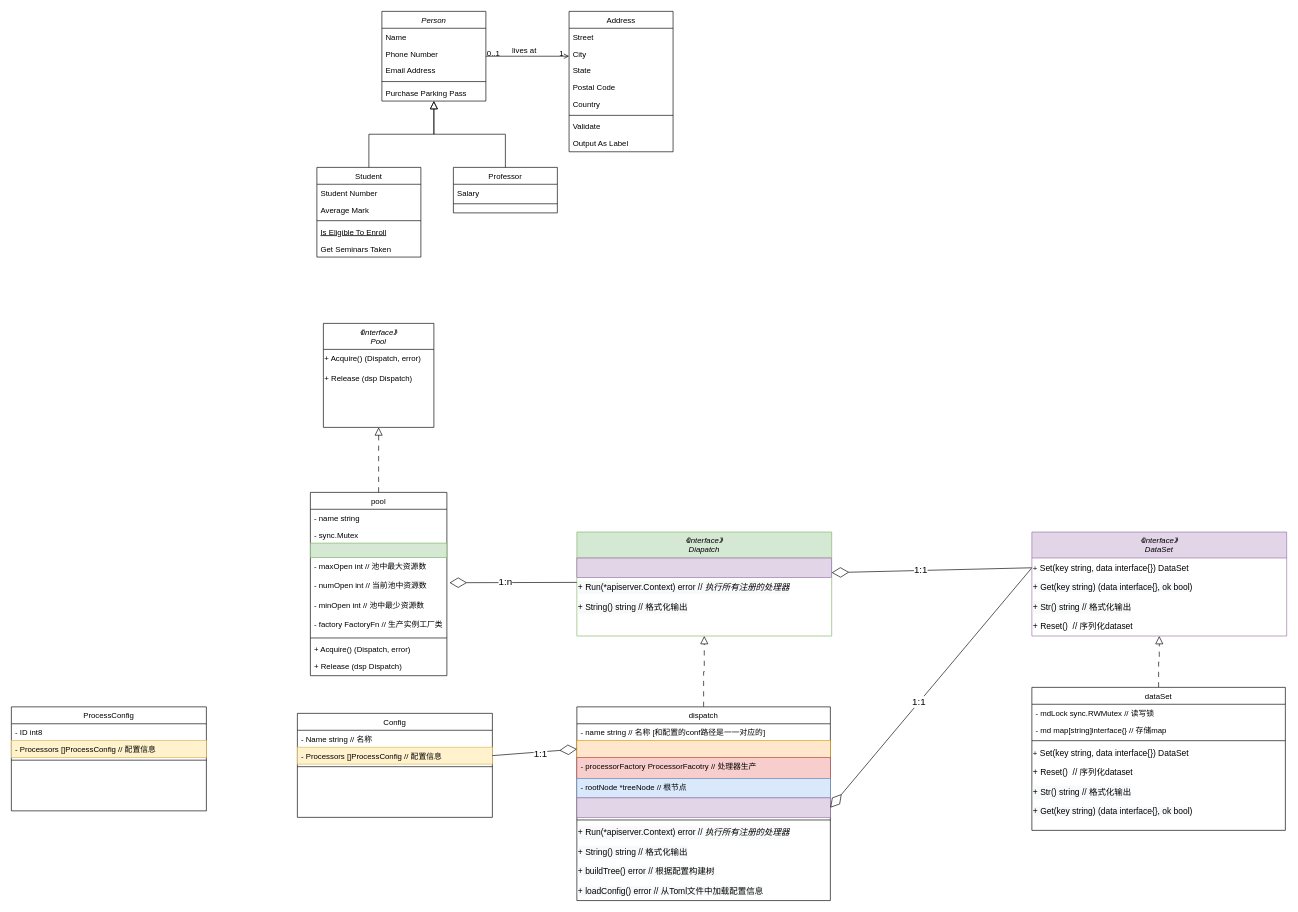
The diagram is 1298 pixels wide and 912 high, and some of its shapes have lost their labels. Here are the shapes that lost their labels. From the top down, the centre of each, then its label:
(x=378, y=549): - pool chan Dispatch
(x=704, y=567): + DatasSet // 提供数据集合的读写
(x=703, y=749): - config *Config // 配置信息
(x=703, y=807): + DataSet // 数据集合
